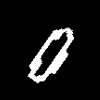chain: (28, 28, 73, 82)
